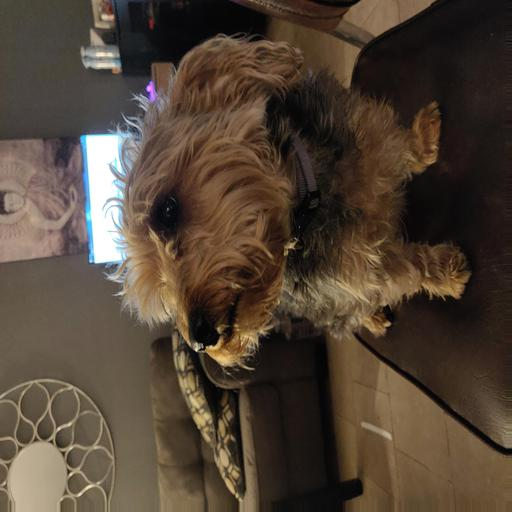dog: (96, 44, 410, 358)
